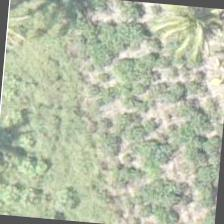Kelapa_Sawit: (146, 3, 223, 72)
